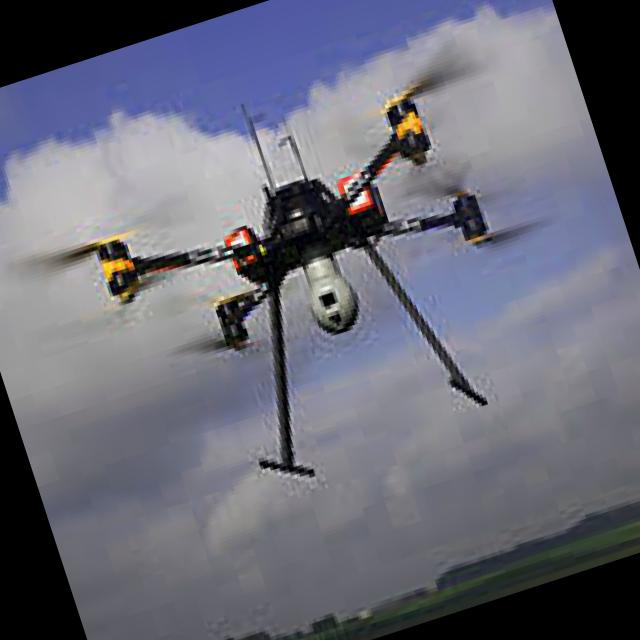drone: (0, 32, 607, 554)
